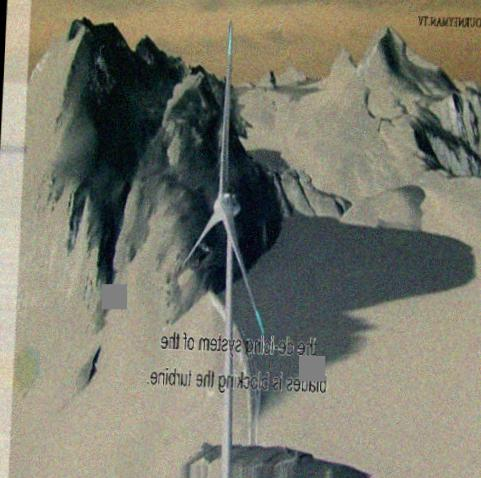wind turbine: (180, 20, 265, 455)
